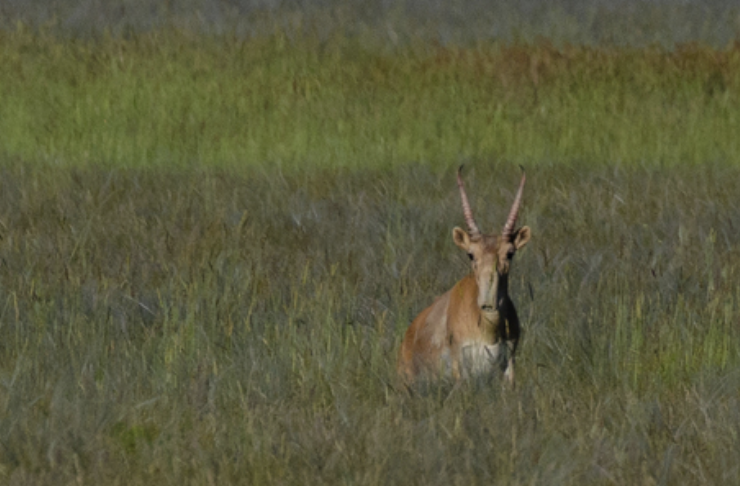saiga: (401, 166, 547, 399)
